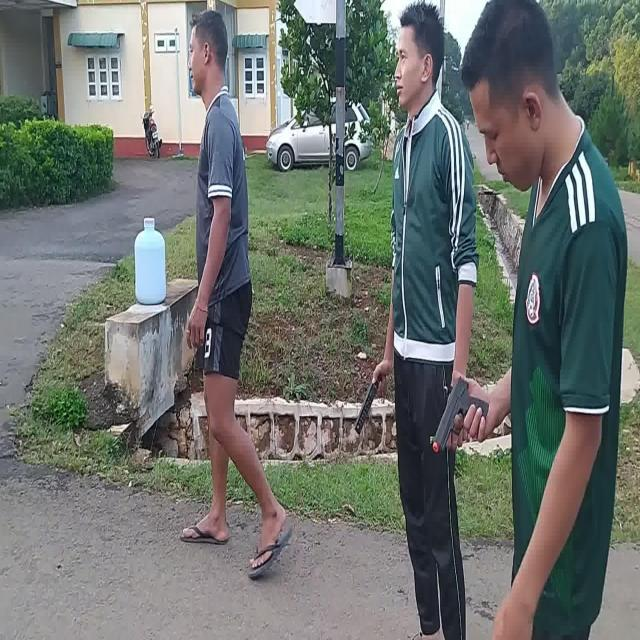gun: (432, 376, 490, 450)
